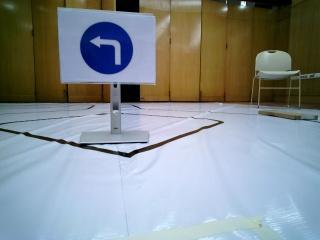left: (62, 5, 154, 84)
